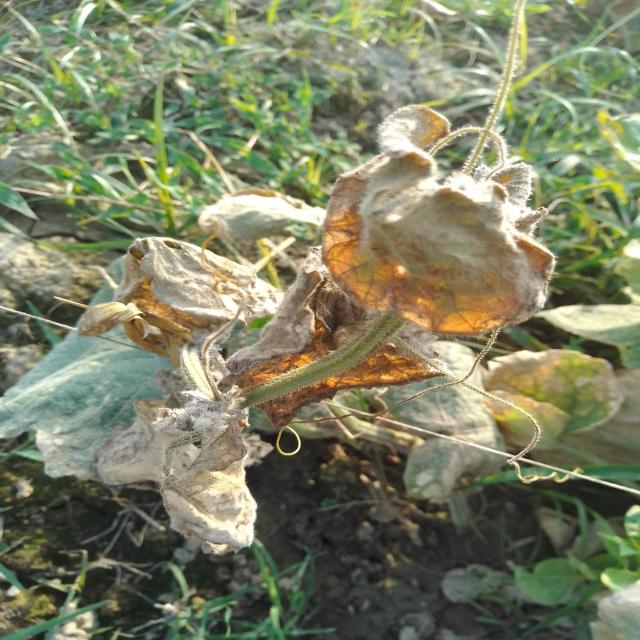cucumber_bacterial: (0, 232, 268, 571), (314, 117, 555, 326), (199, 166, 325, 364), (366, 353, 525, 500)
